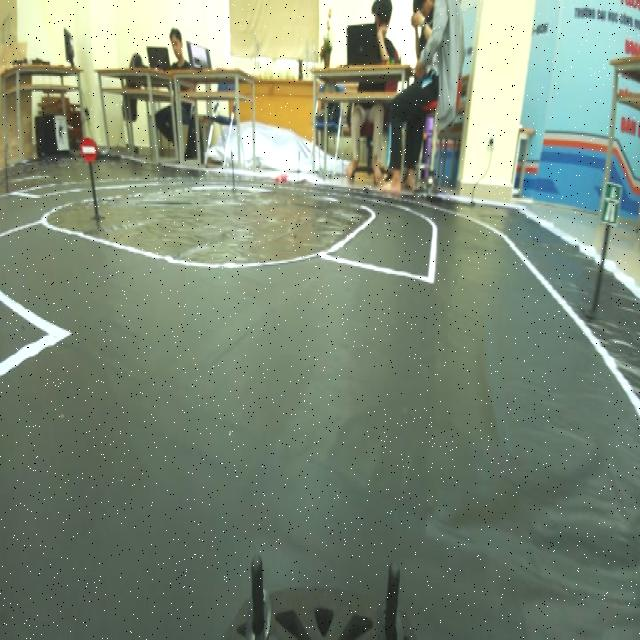highway_entry: (601, 178, 621, 228)
no_entry: (77, 137, 97, 162)
